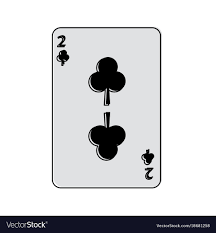two of clubs: (53, 27, 160, 188)
